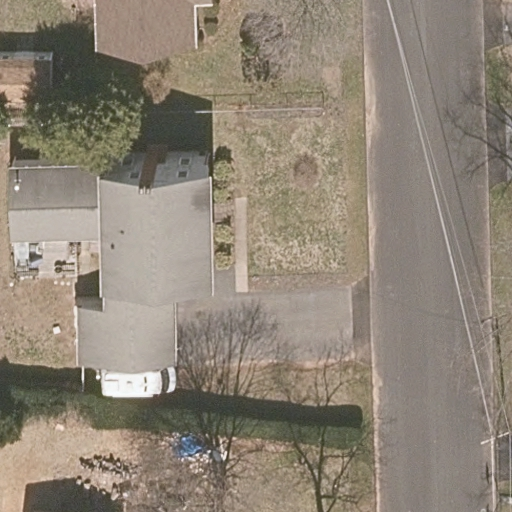DT: (480, 430, 512, 445)
